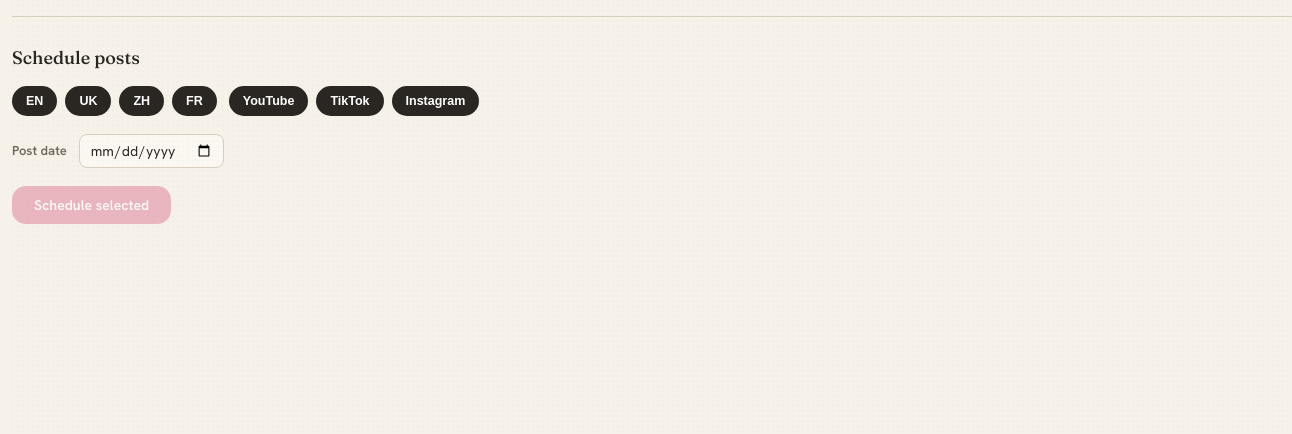
Test: EpisodeScheduler › shows warnings from the API response
Type "2025-07-04" into the date field labelled "Post date" at x=151, y=151, box x1=79 y1=134 x2=224 y2=168
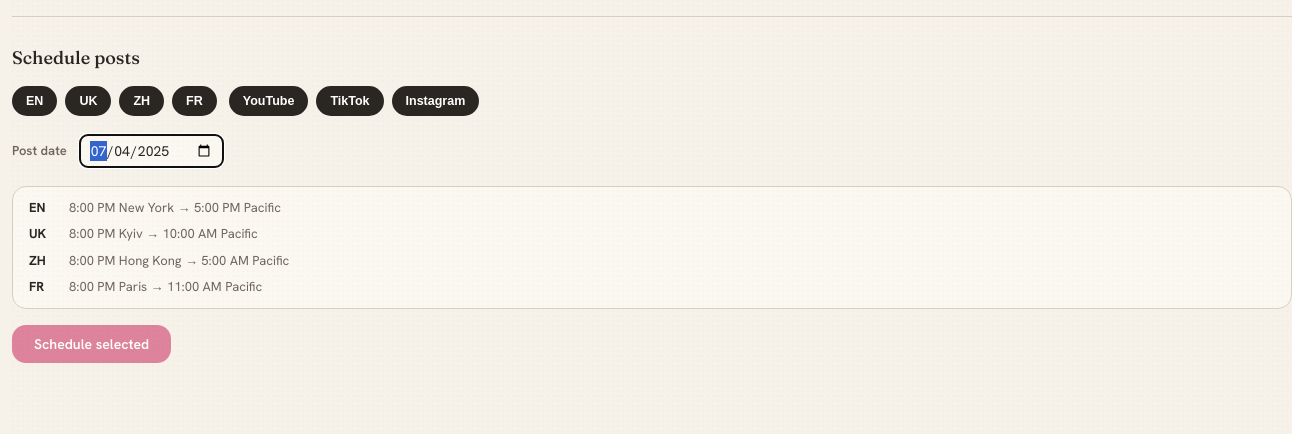
Click the button "Schedule selected" at x=92, y=344, box x1=12 y1=325 x2=171 y2=363
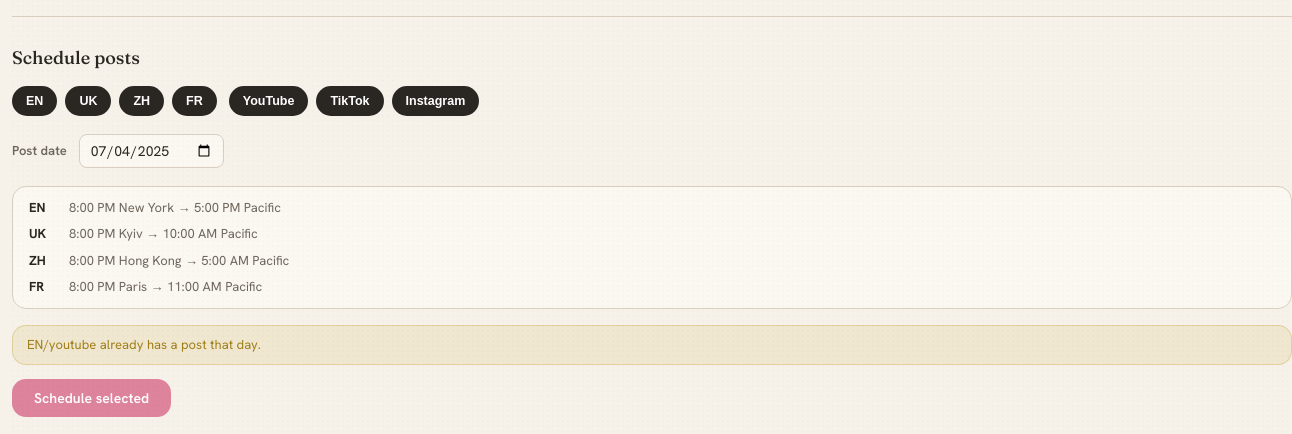
Expected: the text "EN/youtube already has a post that day." is shown, x1=27 y1=336 x2=261 y2=353
